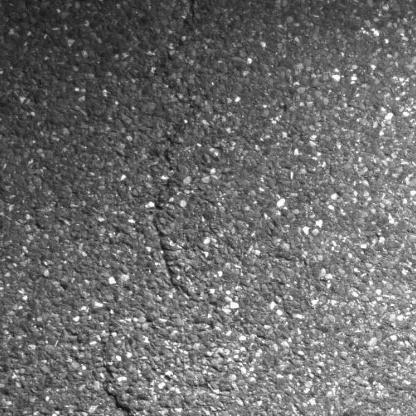Cracks: (151, 75, 225, 313), (97, 355, 152, 416)
